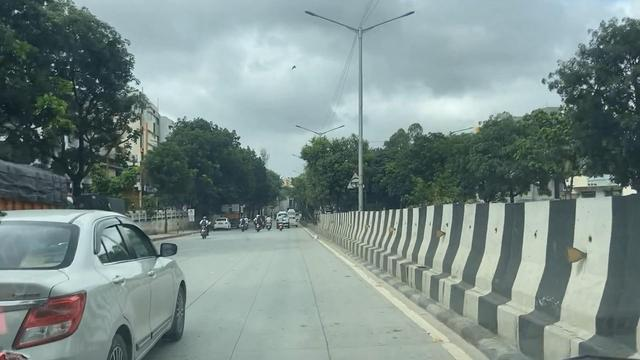LMV: (5, 211, 191, 360)
